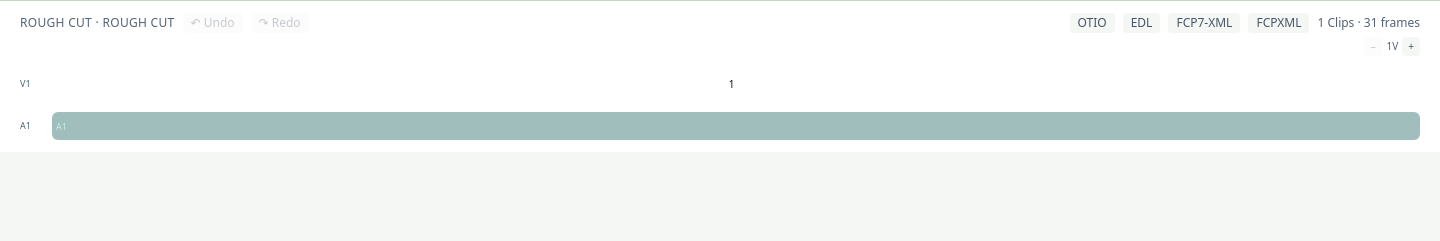
Test: TimelineBar › clicking '− Track' removes an empty lane but never below occupied count
This screenshot has width=1440, height=241.
// Add two extra lanes.
Click the button titled "Add a video track".
click(1411, 46)  # box left=1402, top=37, right=1420, bottom=56
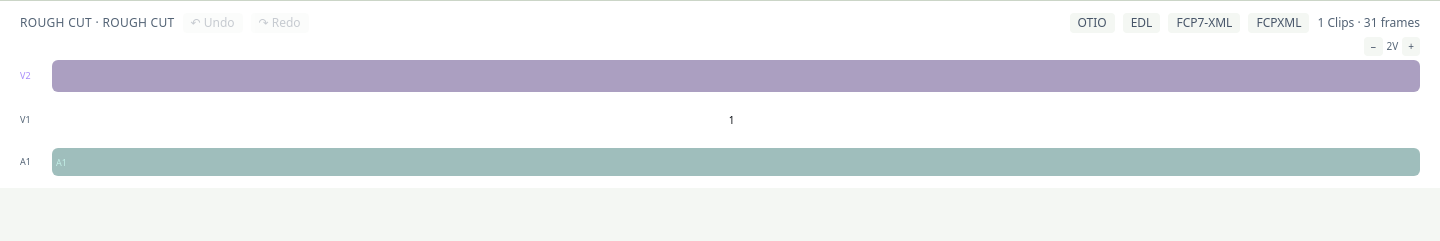
Click the button titled "Add a video track".
click(1411, 46)  # box left=1402, top=37, right=1420, bottom=56
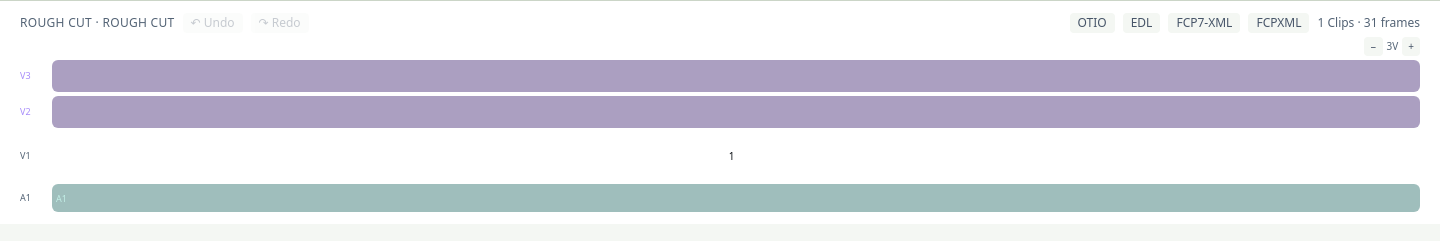
Expected: the element labelled "V3" is shown, left=20, top=60, right=1420, bottom=92
// Remove one lane.
Click the button titled "Videospur entfernen".
click(1373, 46)  # box left=1364, top=37, right=1382, bottom=56
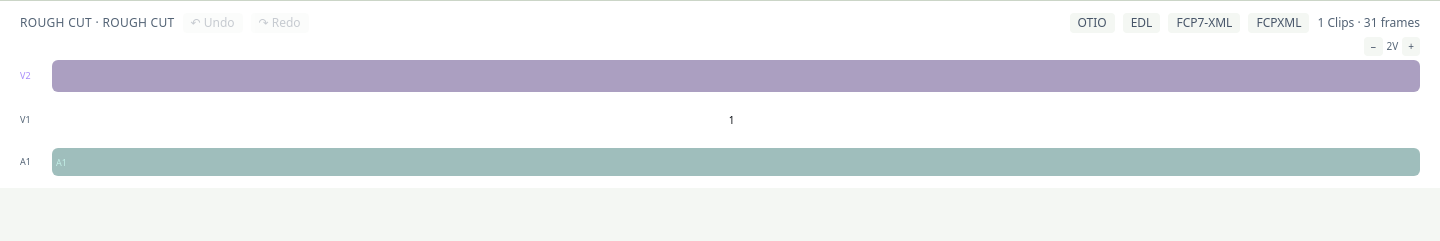
Expected: the text labelled "V3" is not shown
Result: the element labelled "V2" is shown at left=20, top=60, right=1420, bottom=92
Click the button titled "Videospur entfernen".
click(1373, 46)  # box left=1364, top=37, right=1382, bottom=56
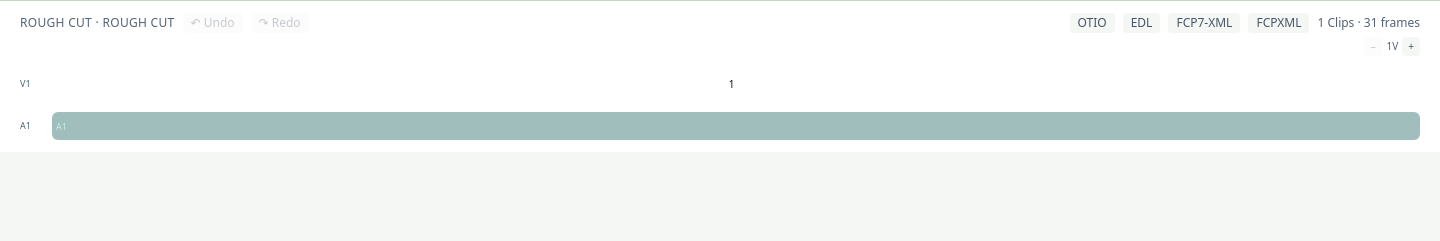
Expected: the element labelled "V1" is shown, left=20, top=60, right=1420, bottom=108
Result: the text labelled "V2" is gone
